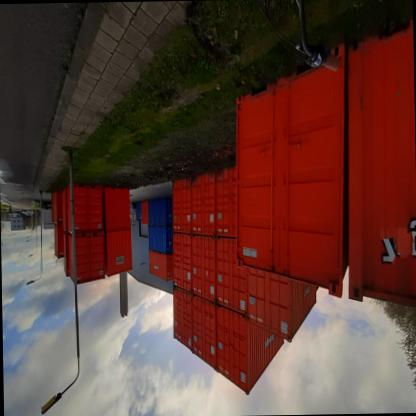CornerCasting: (326, 42, 352, 63), (347, 283, 365, 307), (324, 279, 342, 299), (232, 92, 250, 106), (236, 258, 245, 270)
